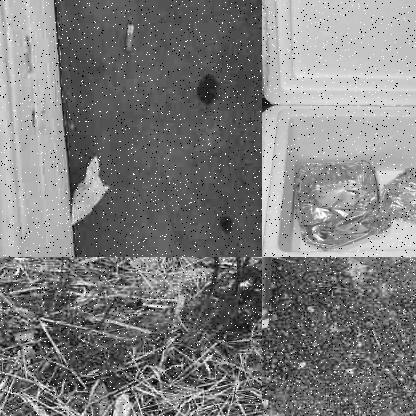metal: (301, 162, 391, 244), (385, 162, 415, 224)
plastic: (262, 105, 415, 256), (262, 0, 415, 105), (71, 162, 121, 220), (113, 393, 132, 415)
